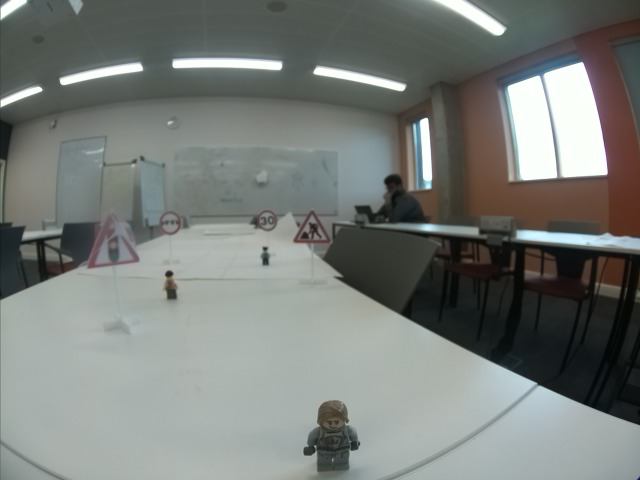30mph: (257, 210, 279, 231)
6ft6: (160, 211, 182, 235)
Lego Man: (303, 400, 358, 472), (162, 270, 178, 301), (260, 245, 270, 265)
Roadworks: (294, 211, 333, 243)
Traffic lights: (85, 212, 142, 269)
